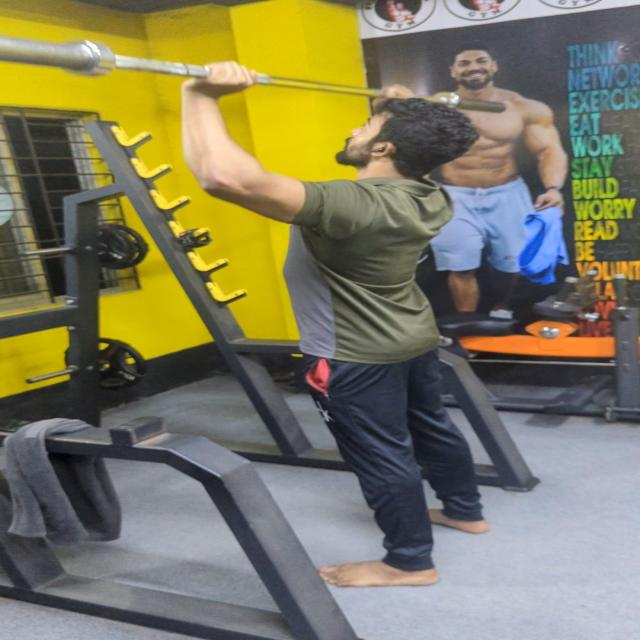Normal_OverheadPress: (126, 37, 586, 591)
